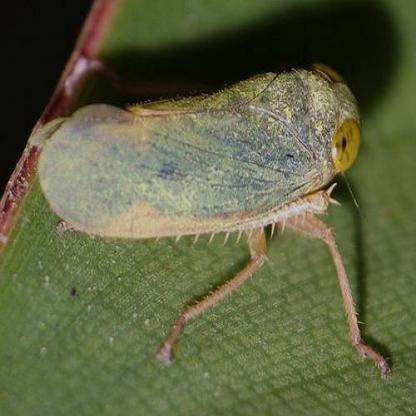green-leafhopper: (34, 65, 365, 238)
